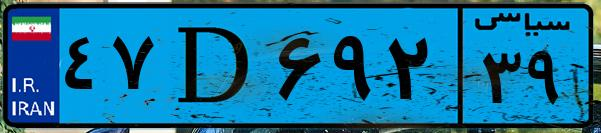2: (385, 28, 445, 110)
3: (475, 38, 525, 113)
4: (57, 26, 110, 100)
6: (270, 28, 330, 110)
7: (110, 28, 158, 98)
9: (330, 28, 385, 110), (525, 38, 570, 115)
D: (158, 12, 270, 120)
